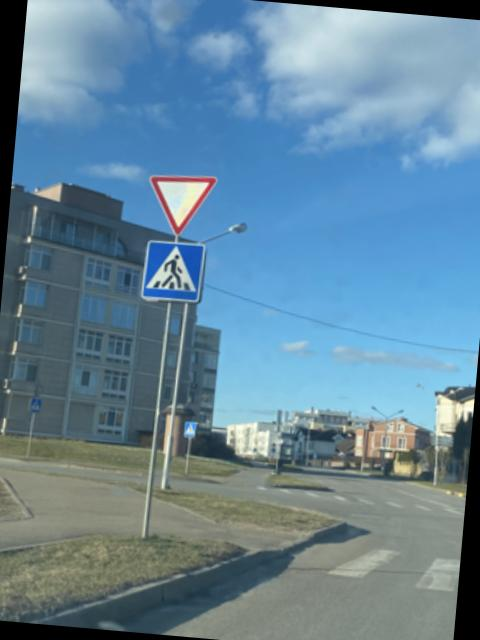crosswalk-sign: (141, 238, 210, 305)
